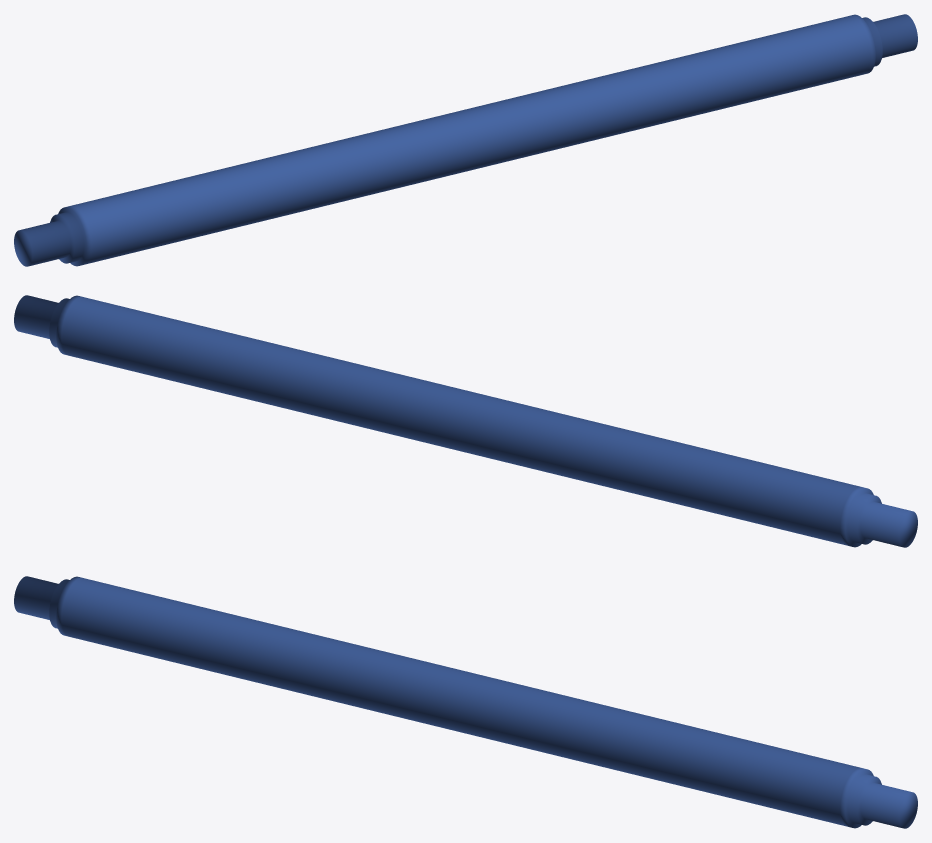
The model's file is wire_snap.fbx.
3 views of the same model, one above another, from view 1: azimuth 30°, elevation 25°; view 2: azimuth 150°, elevation 25°; view 3: azimuth 330°, elevation 25° (orthographic).
Visible parts, largest first — view 1: basic_wire.001, connector_2, connector_1; view 2: basic_wire.001, connector_2, connector_1; view 3: basic_wire.001, connector_1, connector_2.
Part boxes in pixels (x1,y1,x2,y2): basic_wire.001: (71,16,870,264); connector_2: (14,206,91,266); connector_1: (850,14,917,74); basic_wire.001: (61,297,860,545); connector_2: (840,487,917,547); connector_1: (14,295,81,355); basic_wire.001: (61,578,860,826); connector_1: (840,768,917,828); connector_2: (14,576,82,636).
Bounding box in the file's own units: 337 × 20 × 20.
